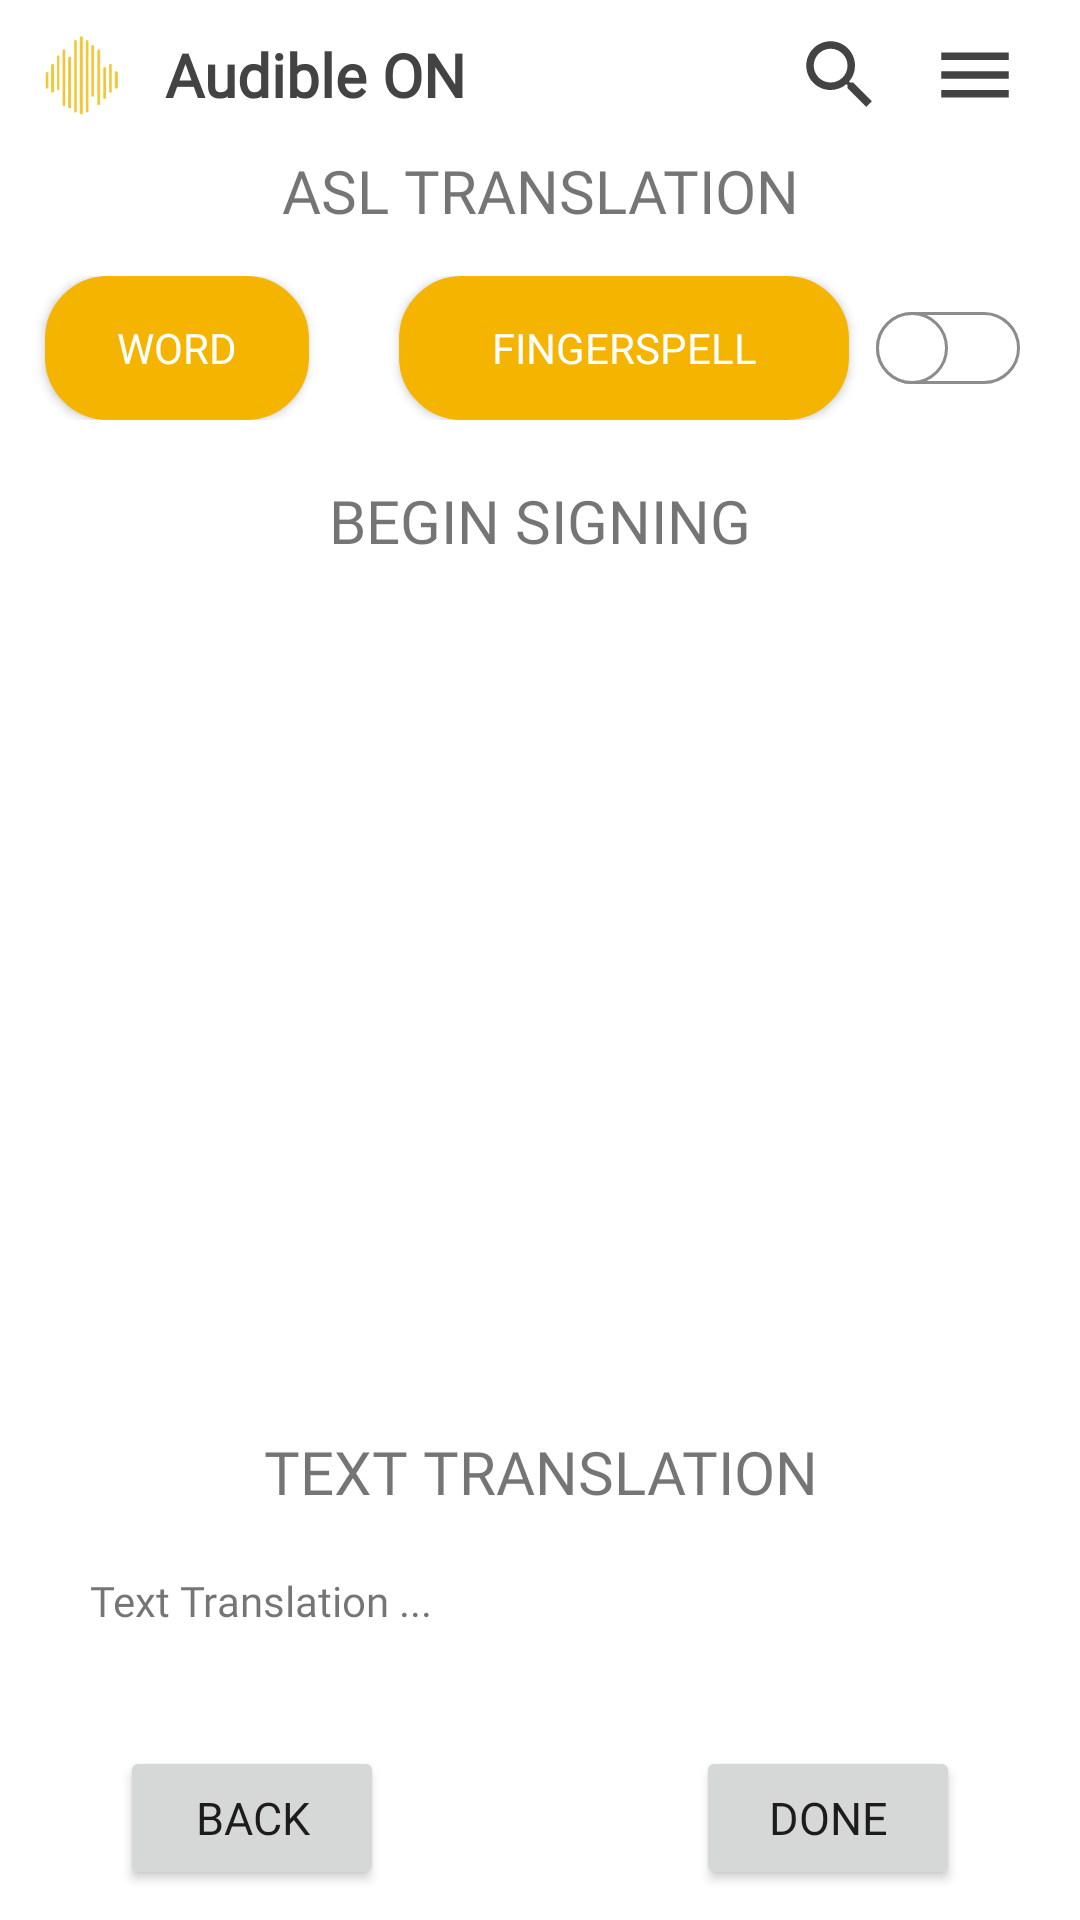

Point at icon controls on the screen. Image size 1080*1920, points as (x=x, y=y).
menu: (x=975, y=75)
search: (x=839, y=74)
